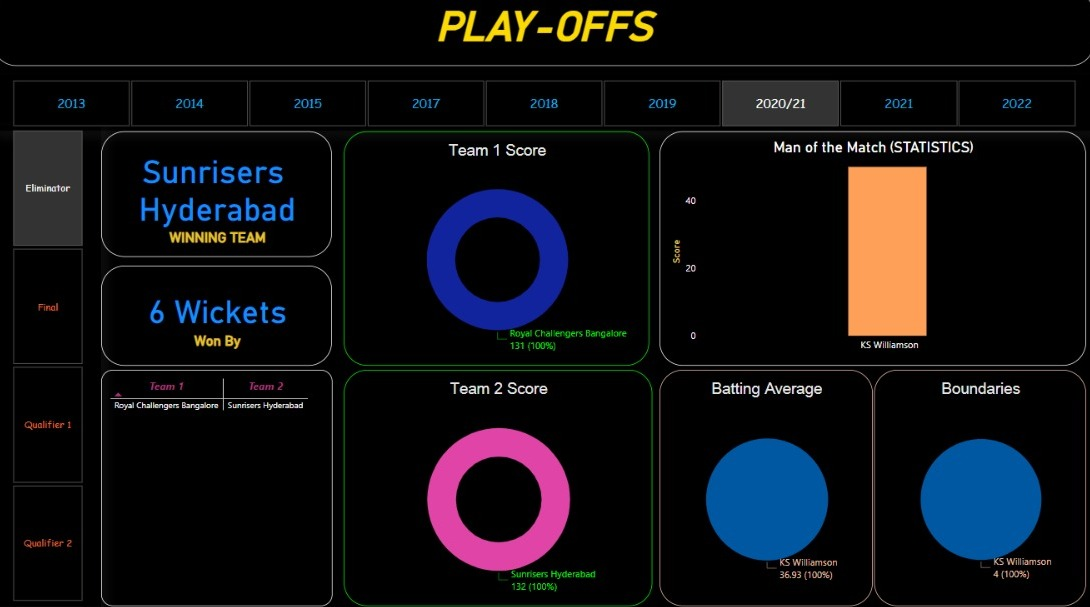

What the dashboard file says about the page in this screenshot:
{"tool":"powerbi","page":{"name":"Play Offs","canvas":[1420,800],"ordinal":4},"visuals":[{"type":"slicer","fields":{"Values":["PLAYOFFS.Season"]},"box":[0,108.5,1416.4,72.4],"z":0},{"type":"textbox","box":[0,0,1416.4,96.5],"z":1000},{"type":"slicer","fields":{"Values":["PLAYOFFS.MatchNumber"]},"box":[0,172.9,139.4,619.1],"z":2000},{"type":"tableEx","title":"QUALIFIED TEAMS","fields":{"Values":["PLAYOFFS.Team1","PLAYOFFS.Team2"]},"box":[139.4,487.8,297.5,304.2],"z":3000},{"type":"card","fields":{"Values":["Min(PLAYOFFS.WinningTeam)"]},"box":[140,181.4,297.1,161.4],"z":4000},{"type":"donutChart","title":"Team 1 Score","fields":{"Category":["PLAYOFFS.Team1"],"Y":["Sum(PLAYOFFS.Team1 Runs)"]},"box":[451.4,181.4,392.9,301.4],"z":5000},{"type":"donutChart","title":"Team 2 Score","fields":{"Category":["PLAYOFFS.Team2"],"Y":["Sum(PLAYOFFS.Team2 Runs)"]},"box":[451.6,487.8,396.6,304.2],"z":6000},{"type":"columnChart","title":"Man of the Match (STATISTICS)","fields":{"Category":["PLAYOFFS.Player_of_Match"],"Y":["Sum(PLAYOFFS.Runs Scored)"],"Series":["PLAYOFFS.Season"]},"box":[857.1,181.4,548.6,301.4],"z":7000},{"type":"card","fields":{"Values":["Min(PLAYOFFS.Won By)"]},"box":[140,354.3,297.1,128.6],"z":8000},{"type":"pieChart","title":"Batting Average","fields":{"Category":["PLAYOFFS.Player_of_Match"],"Y":["Avg(PLAYOFFS.Batting Average)"]},"box":[857.6,487.8,274.7,304.2],"z":9000},{"type":"pieChart","title":"Boundaries","fields":{"Category":["PLAYOFFS.Player_of_Match"],"Y":["Sum(PLAYOFFS.Boundaries)"]},"box":[1133,488,273,304],"z":10000}]}

Visuals, with their boxes in screenshot pixels (x1, y1, x2, y2), scaled from the page's 1420x800 canvas onto the 1090x607 screenshot:
slicer - PLAYOFFS.Season: {"left": 0, "top": 82, "right": 1087, "bottom": 137}
textbox: {"left": 0, "top": 0, "right": 1087, "bottom": 73}
slicer - PLAYOFFS.MatchNumber: {"left": 0, "top": 131, "right": 107, "bottom": 601}
"QUALIFIED TEAMS" tableEx: {"left": 107, "top": 370, "right": 335, "bottom": 601}
card - Min(PLAYOFFS.WinningTeam): {"left": 107, "top": 138, "right": 336, "bottom": 260}
"Team 1 Score" donutChart: {"left": 346, "top": 138, "right": 648, "bottom": 366}
"Team 2 Score" donutChart: {"left": 347, "top": 370, "right": 651, "bottom": 601}
"Man of the Match (STATISTICS)" columnChart: {"left": 658, "top": 138, "right": 1079, "bottom": 366}
card - Min(PLAYOFFS.Won By): {"left": 107, "top": 269, "right": 336, "bottom": 366}
"Batting Average" pieChart: {"left": 658, "top": 370, "right": 869, "bottom": 601}
"Boundaries" pieChart: {"left": 870, "top": 370, "right": 1079, "bottom": 601}
